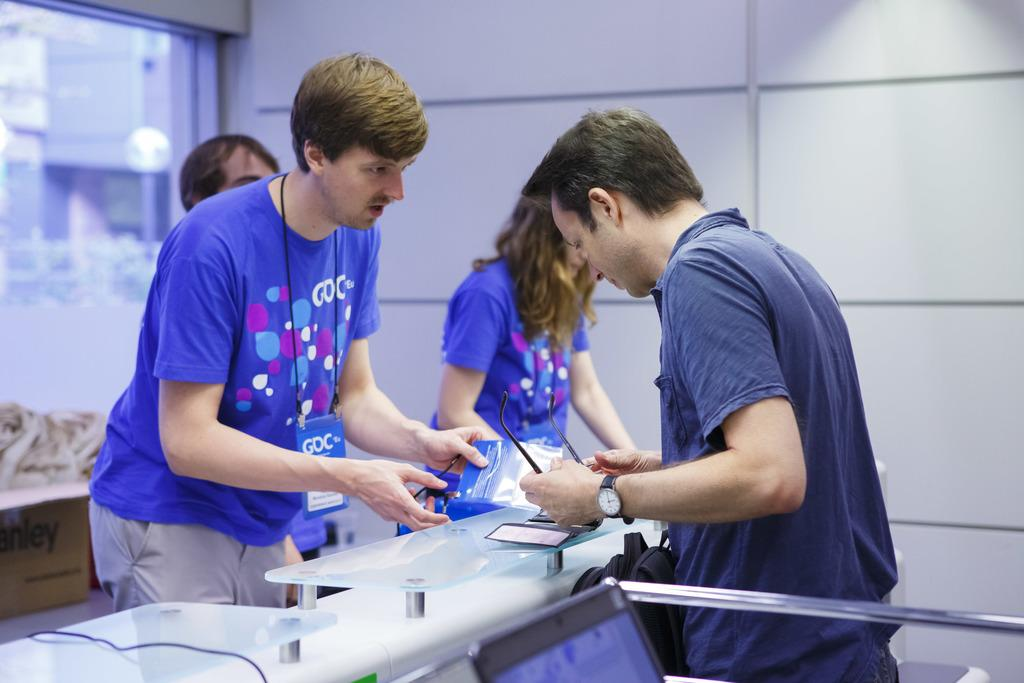no_helmet: (258, 138, 456, 236), (506, 183, 688, 276)
none: (522, 227, 918, 560), (44, 204, 414, 493), (391, 254, 618, 464)
